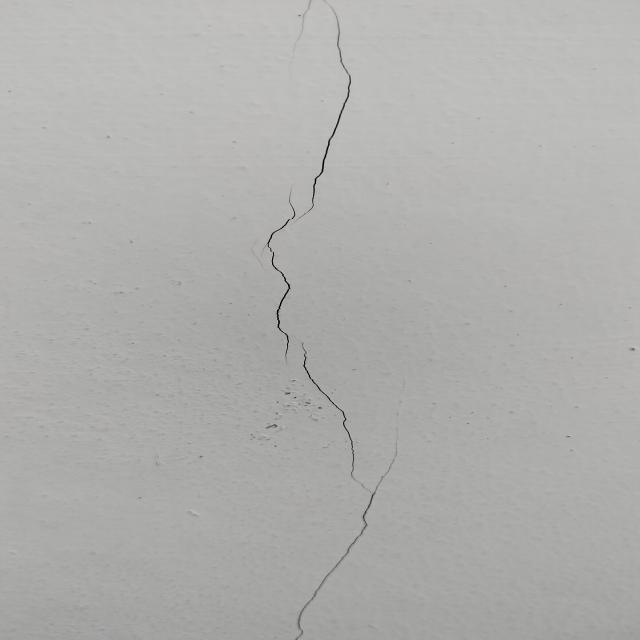Crack: (246, 1, 407, 640)
